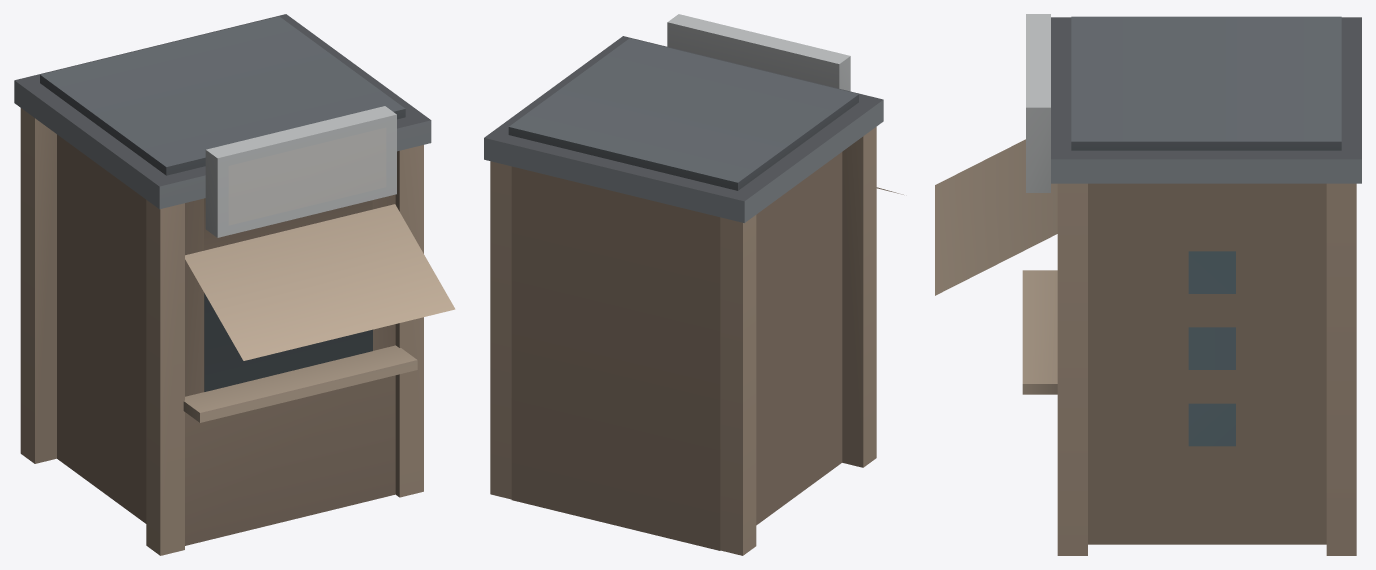
The model's file is kiosk.lod2.glb.
3 renders of one model, left to right at view 1: azimuth 30°, elevation 25°; view 2: azimuth 150°, elevation 25°; view 3: azimuth 270°, elevation 25°, orthographic. The views are drawn at different scales.
Size of the model in its own units: 2 by 2.8 by 2.54.
